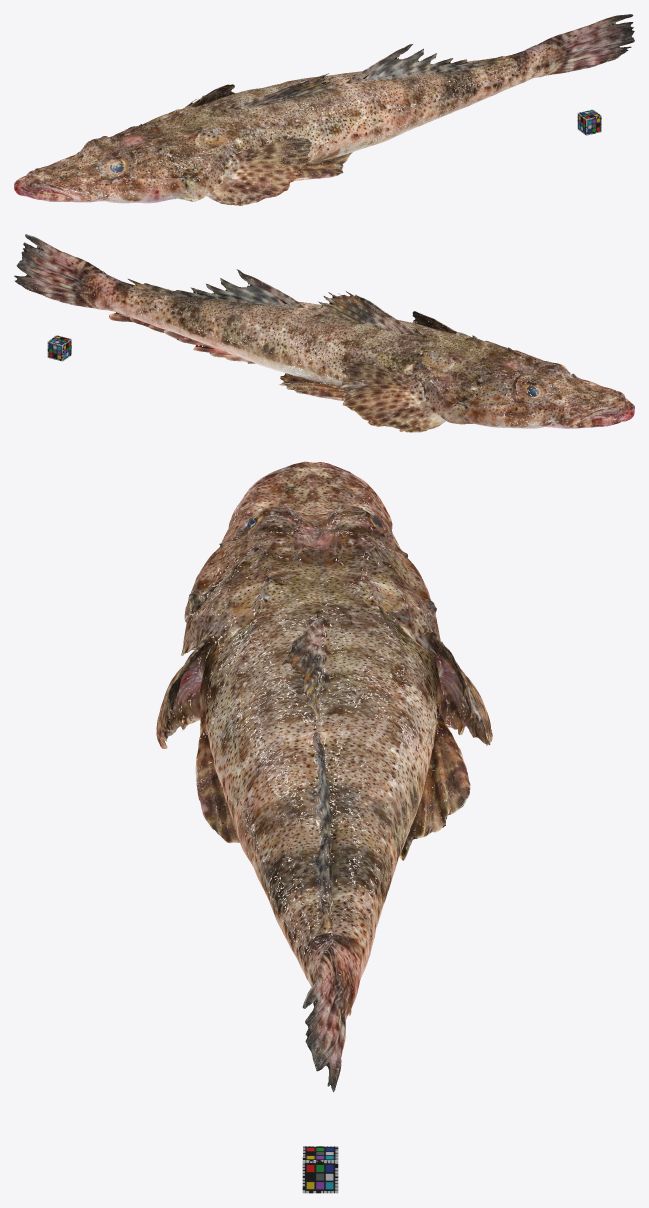
The model's file is scan_bartail.glb.
3 views of the same model, one above another, from view 1: azimuth 30°, elevation 25°; view 2: azimuth 150°, elevation 25°; view 3: azimuth 270°, elevation 25° (orthographic). The views are drawn at different scales.
Visible parts, largest first — view 1: Object_12, Object_6, Object_19, Object_4; view 2: Object_19, Object_6, Object_12, Object_4; view 3: Object_6, Object_19, Object_12, Object_4.
Part boxes in pixels (<box>): Object_12: <box>14,14,634,204</box>; Object_6: <box>14,14,633,205</box>; Object_19: <box>15,16,629,205</box>; Object_4: <box>577,109,601,135</box>; Object_19: <box>17,237,634,432</box>; Object_6: <box>14,234,632,431</box>; Object_12: <box>15,236,634,432</box>; Object_4: <box>47,335,71,361</box>; Object_6: <box>156,464,490,1091</box>; Object_19: <box>157,462,492,1089</box>; Object_12: <box>156,461,492,1091</box>; Object_4: <box>302,1146,338,1193</box>.
Size of the model in its own units: 23.85 by 4.81 by 5.63.
4 materials, 4 textured.
